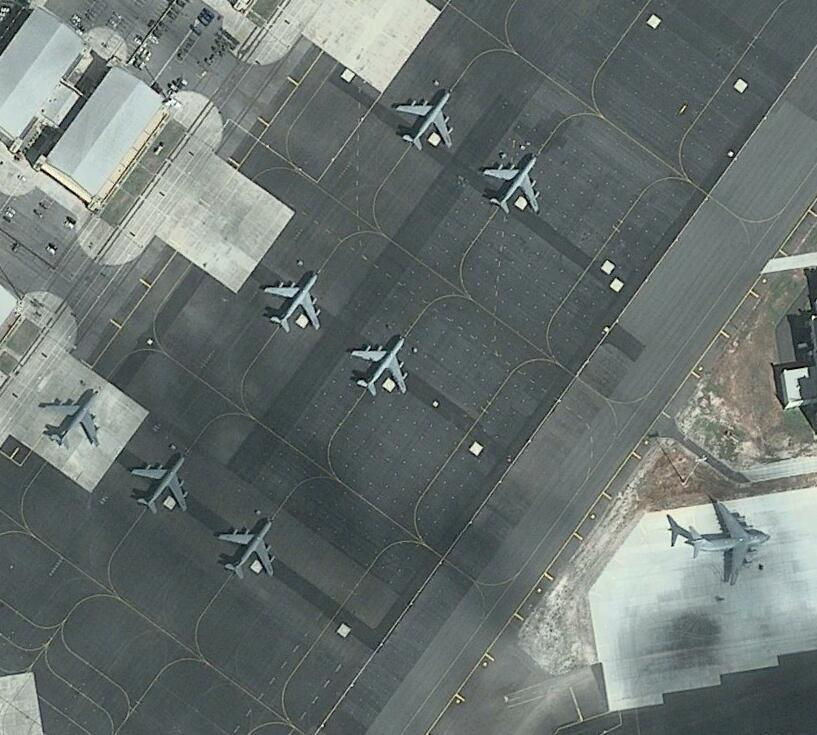A14: (262, 264, 326, 336), (40, 382, 107, 448), (393, 85, 457, 154), (217, 512, 278, 580), (130, 450, 192, 515), (484, 150, 544, 214), (351, 330, 410, 395)
A3: (688, 499, 772, 587)
